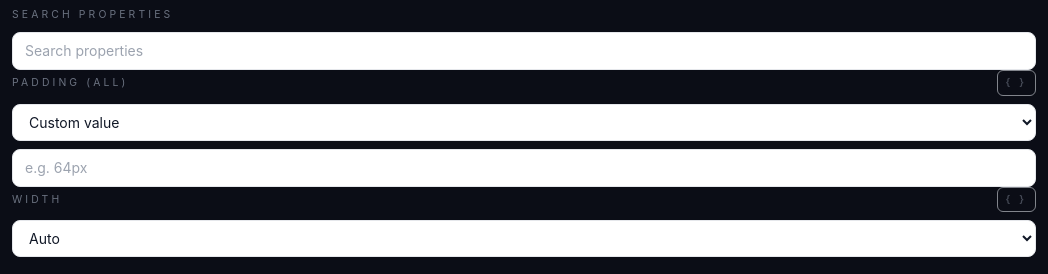
Scenario: property search integration › filters property controls when a query is entered
Type "width" into the search field with placeholder "Search properties" at [524, 51], box [12,32,1036,70]
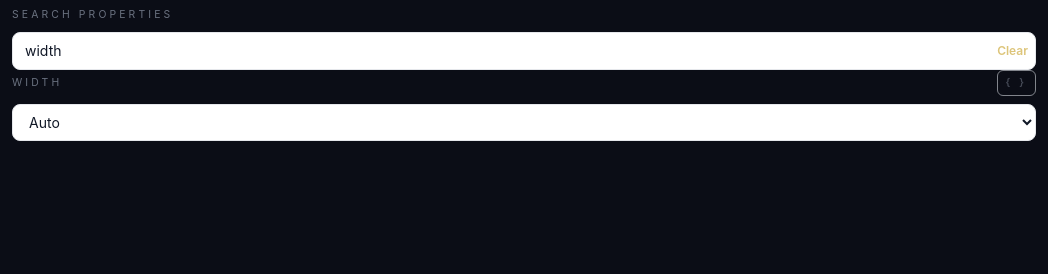
Check: the text "Width" is shown, box [12,75,62,91]
Check: the text "Padding" is gone
Replace the text in the search field with placeholder "Search properties" with "unknown" at [524, 51], box [12,32,1036,70]
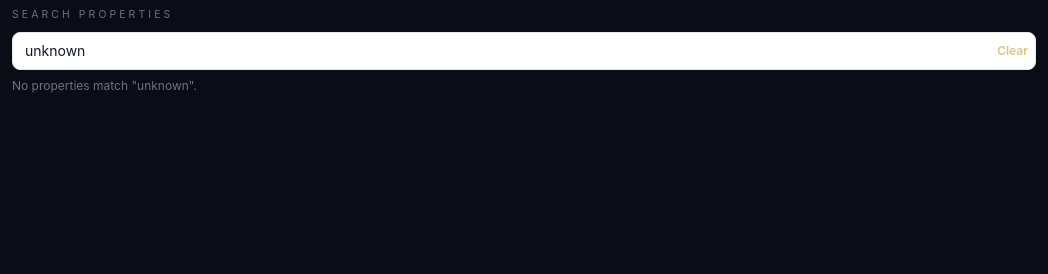
Check: the text "No properties match \"unknown\"." is shown, box [12,78,197,93]
